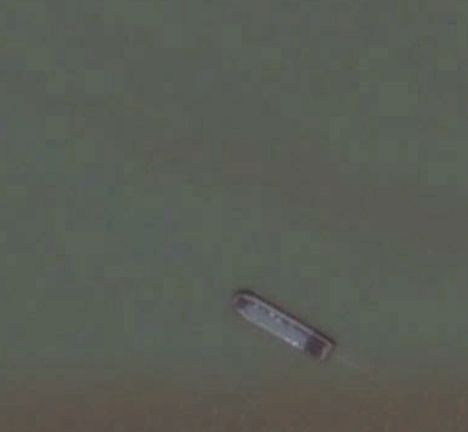boat: (230, 290, 336, 363)
